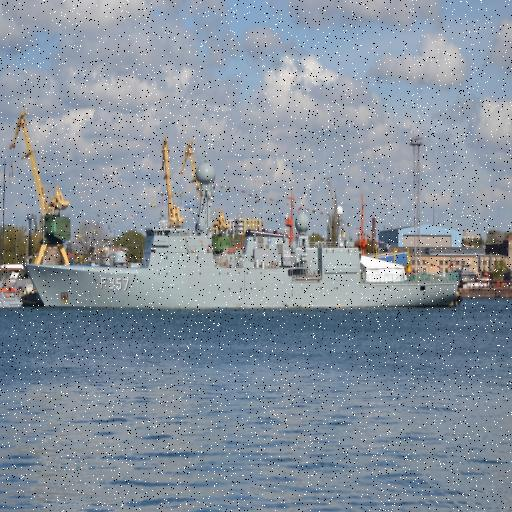Fragata: (19, 157, 465, 318)
